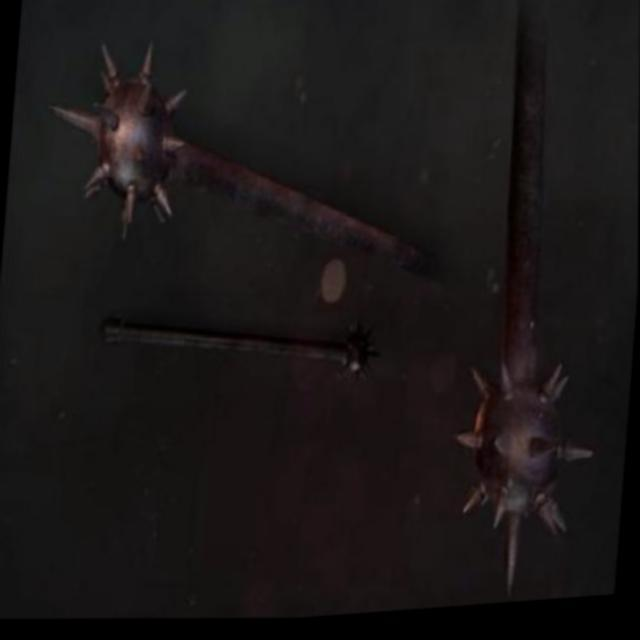weapon: (33, 17, 449, 305), (441, 7, 629, 613)
